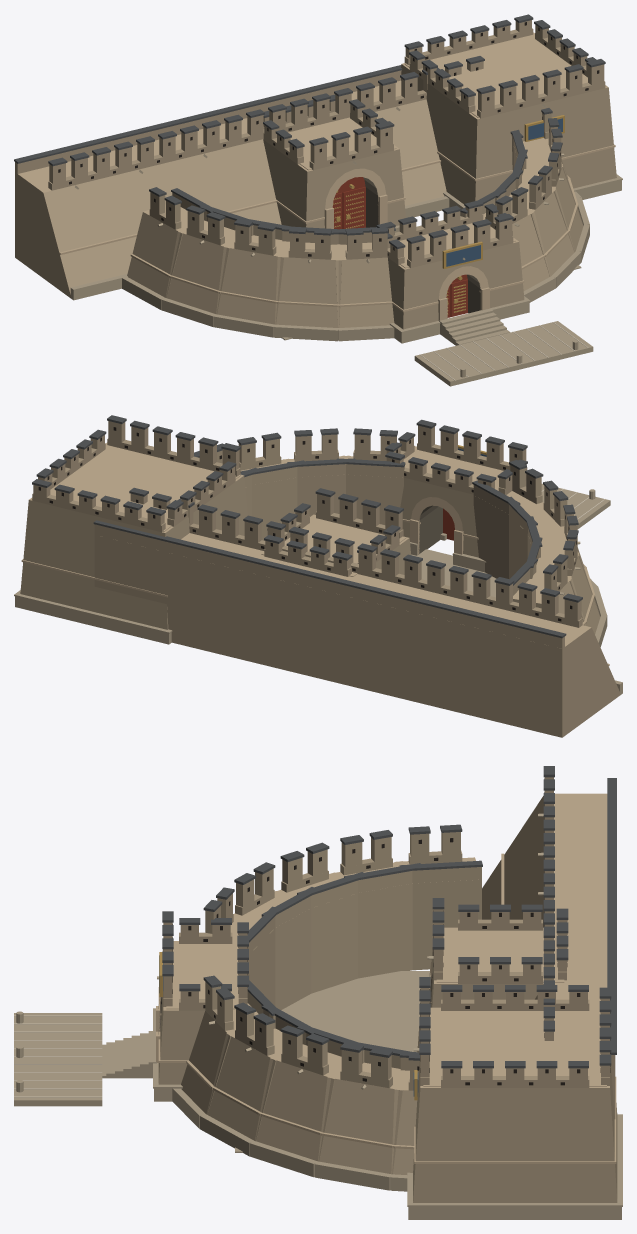
3 renders of one model, top to bottom at view 1: azimuth 30°, elevation 25°; view 2: azimuth 150°, elevation 25°; view 3: azimuth 270°, elevation 25°, orthographic. The views are drawn at different scales.
Parts seen in each view (by area): view 1: J03; view 2: J03; view 3: J03.
Boxes of the visible parts, <box> form: J03: <box>14,14,622,386</box>; J03: <box>14,415,622,737</box>; J03: <box>14,766,622,1219</box>.
Size of the model in its own units: 51.36 by 11.98 by 41.31.
